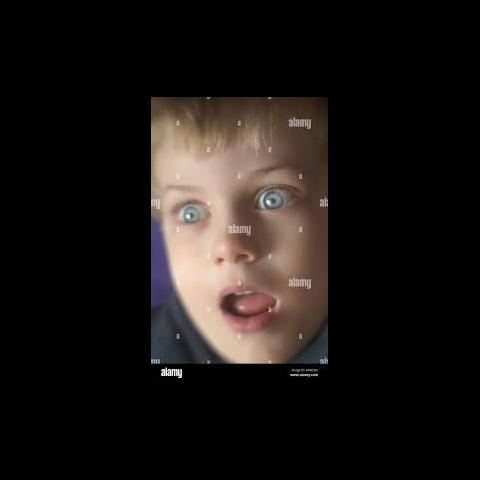opened: (162, 182, 311, 236)
